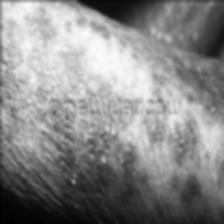Non-Cancerous Skin Condition: (22, 129, 219, 191), (0, 8, 109, 90)
